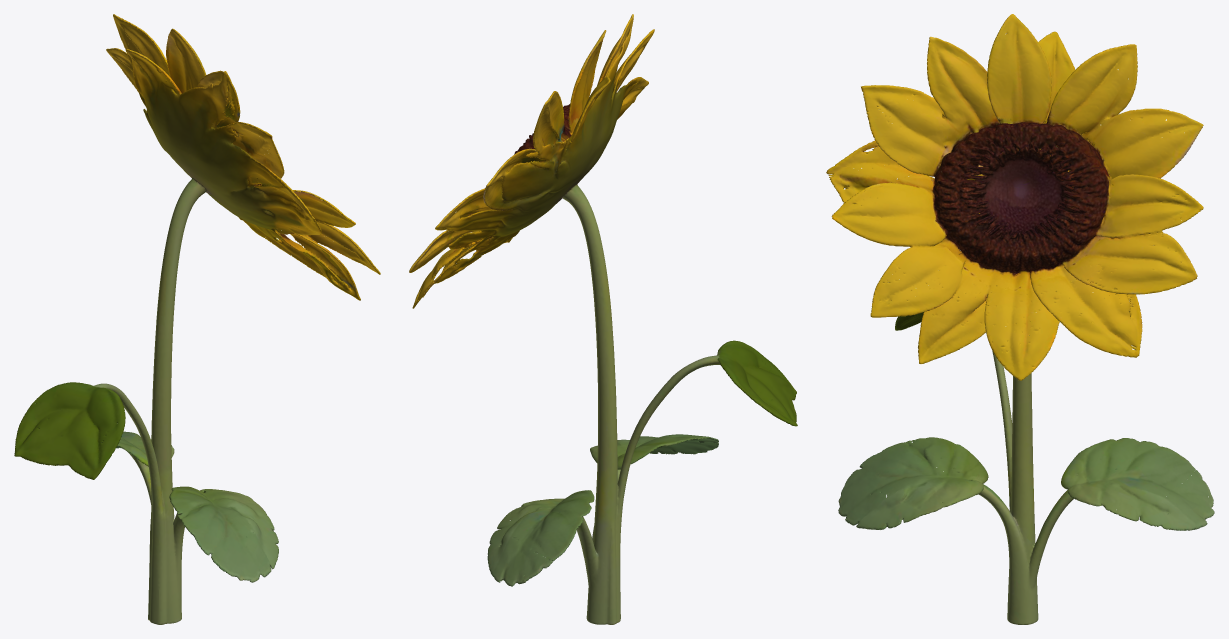
The model's file is sunflower.glb.
The picture shows the model from 3 angles, left to right: view 1: azimuth 30°, elevation 25°; view 2: azimuth 150°, elevation 25°; view 3: azimuth 270°, elevation 25°; orthographic projection. The views are drawn at different scales.
Parts seen in each view (by area): view 1: tripo_node_e0750a48-6b1b-489d-9304-51b4e38f1f7c; view 2: tripo_node_e0750a48-6b1b-489d-9304-51b4e38f1f7c; view 3: tripo_node_e0750a48-6b1b-489d-9304-51b4e38f1f7c.
Boxes of the visible parts, left/top/right/bottom form: tripo_node_e0750a48-6b1b-489d-9304-51b4e38f1f7c: left=14, top=14, right=380, bottom=624; tripo_node_e0750a48-6b1b-489d-9304-51b4e38f1f7c: left=409, top=14, right=797, bottom=624; tripo_node_e0750a48-6b1b-489d-9304-51b4e38f1f7c: left=826, top=14, right=1214, bottom=624.
Bounding box in the file's own units: 0.5939 × 1 × 0.5813.
Materials: 1 (1 with a texture image).
